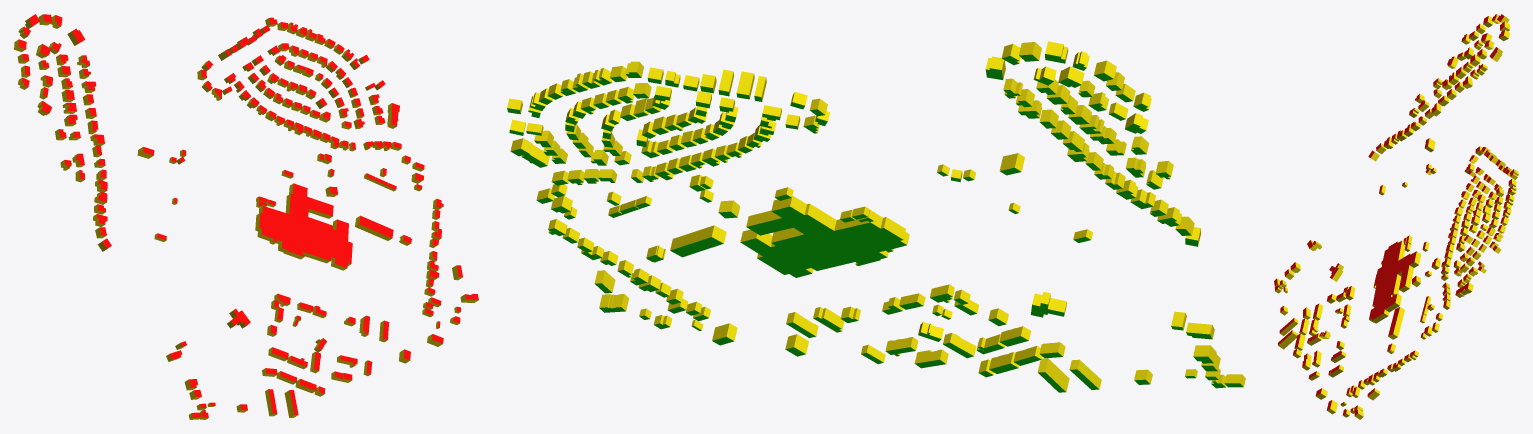
The picture shows the model from 3 angles, left to right: view 1: azimuth 30°, elevation 25°; view 2: azimuth 150°, elevation 25°; view 3: azimuth 270°, elevation 25°; orthographic projection. The views are drawn at different scales.
Visible parts, largest first — view 1: mesh; view 2: mesh; view 3: mesh.
Boxes of the visible parts, x1,y1,x2,y2 form: mesh: (14, 14, 478, 419); mesh: (507, 41, 1245, 392); mesh: (1274, 14, 1518, 419).
Size of the model in its own units: 857 by 702 by 553.
